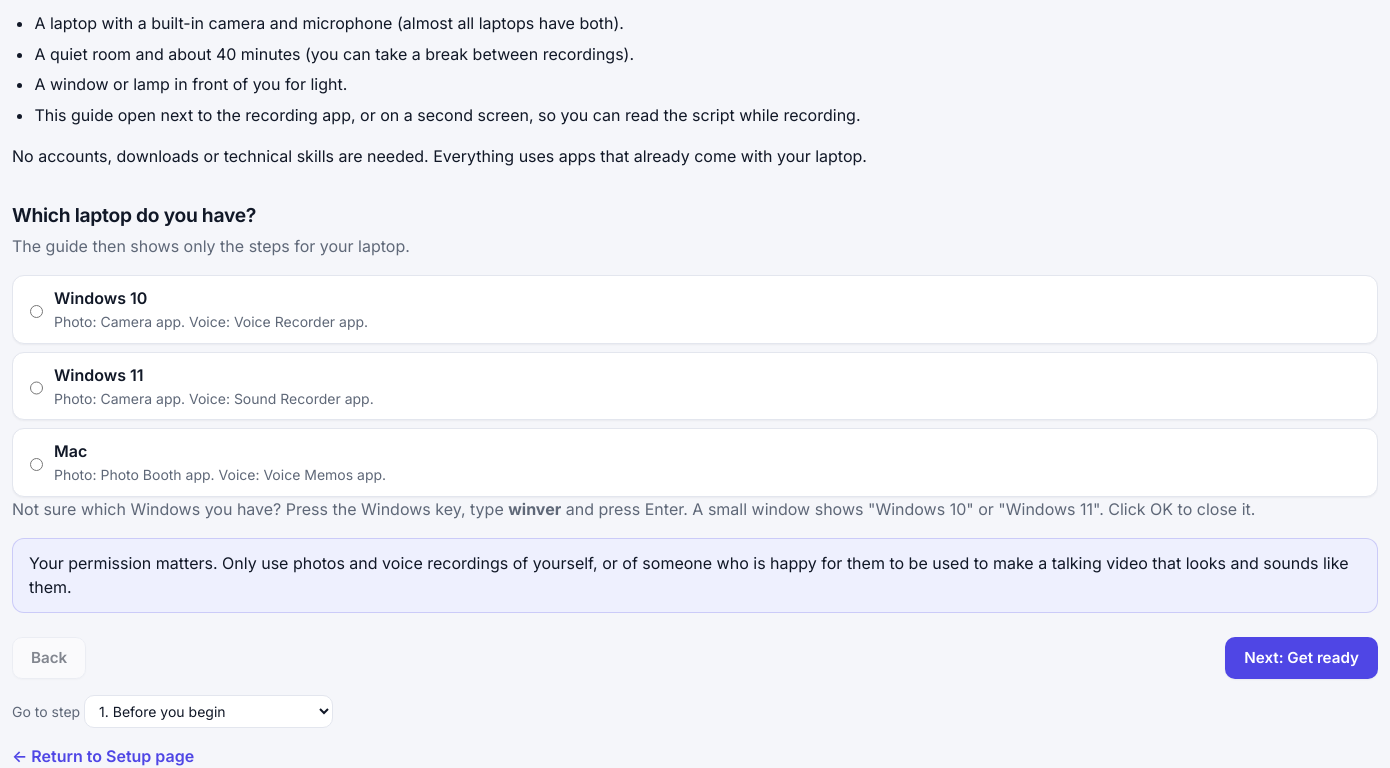
Test: the step list jumps straight to a step
(page scrolled)
Select "7. Recording 1 of 7" in the dropdown at (209, 711), box 84,695 -> 333,728
(page scrolled)
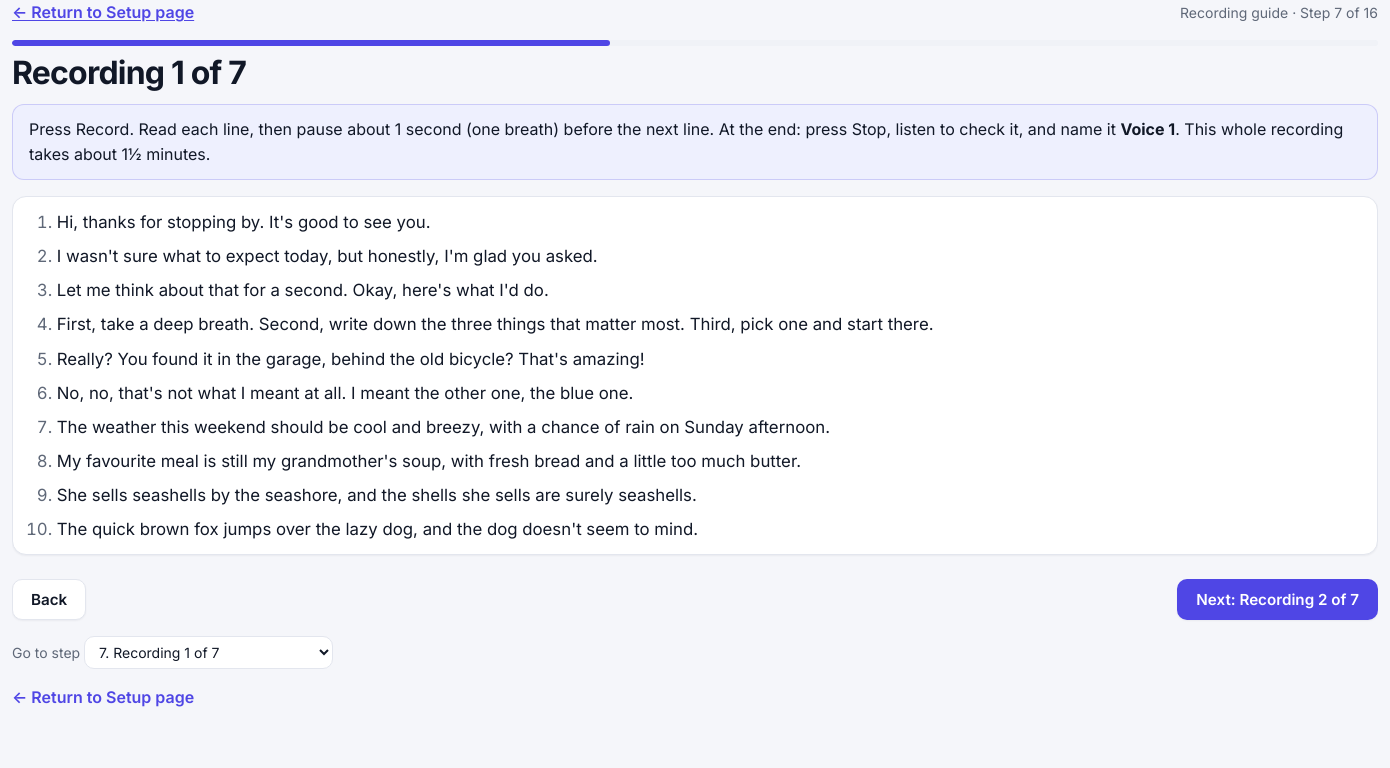
Expected: the heading reads "Recording 1 of 7", 12,53 -> 246,92
Expected: the list item "Hi, thanks for stopping by. It's good to see you." is shown, 57,212 -> 431,232
